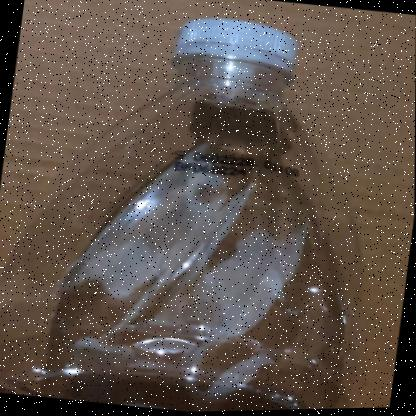bottle cap: (35, 1, 412, 259)
